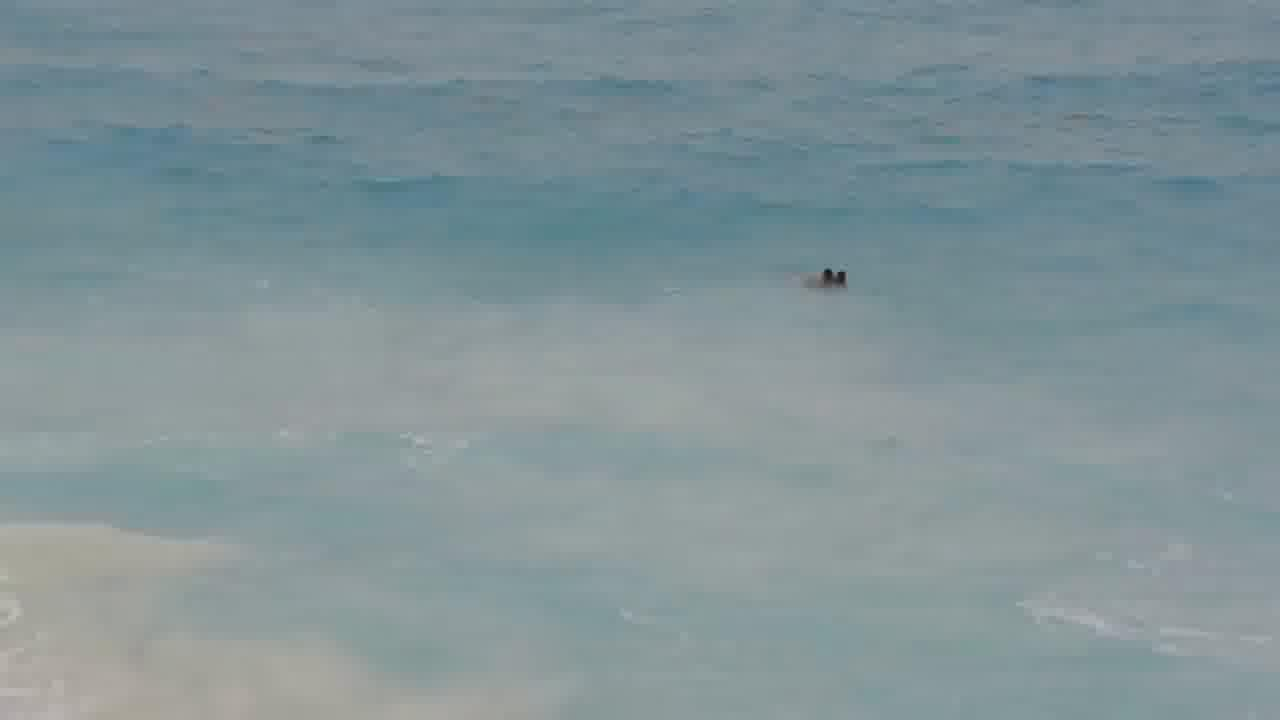human: (807, 248, 863, 298)
